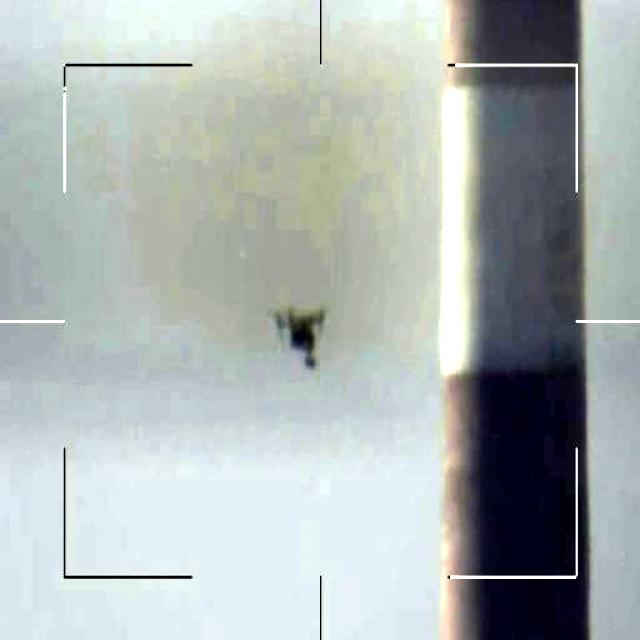bird: (268, 298, 334, 372)
